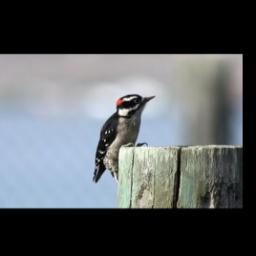Woodpecker: (92, 93, 157, 182)
